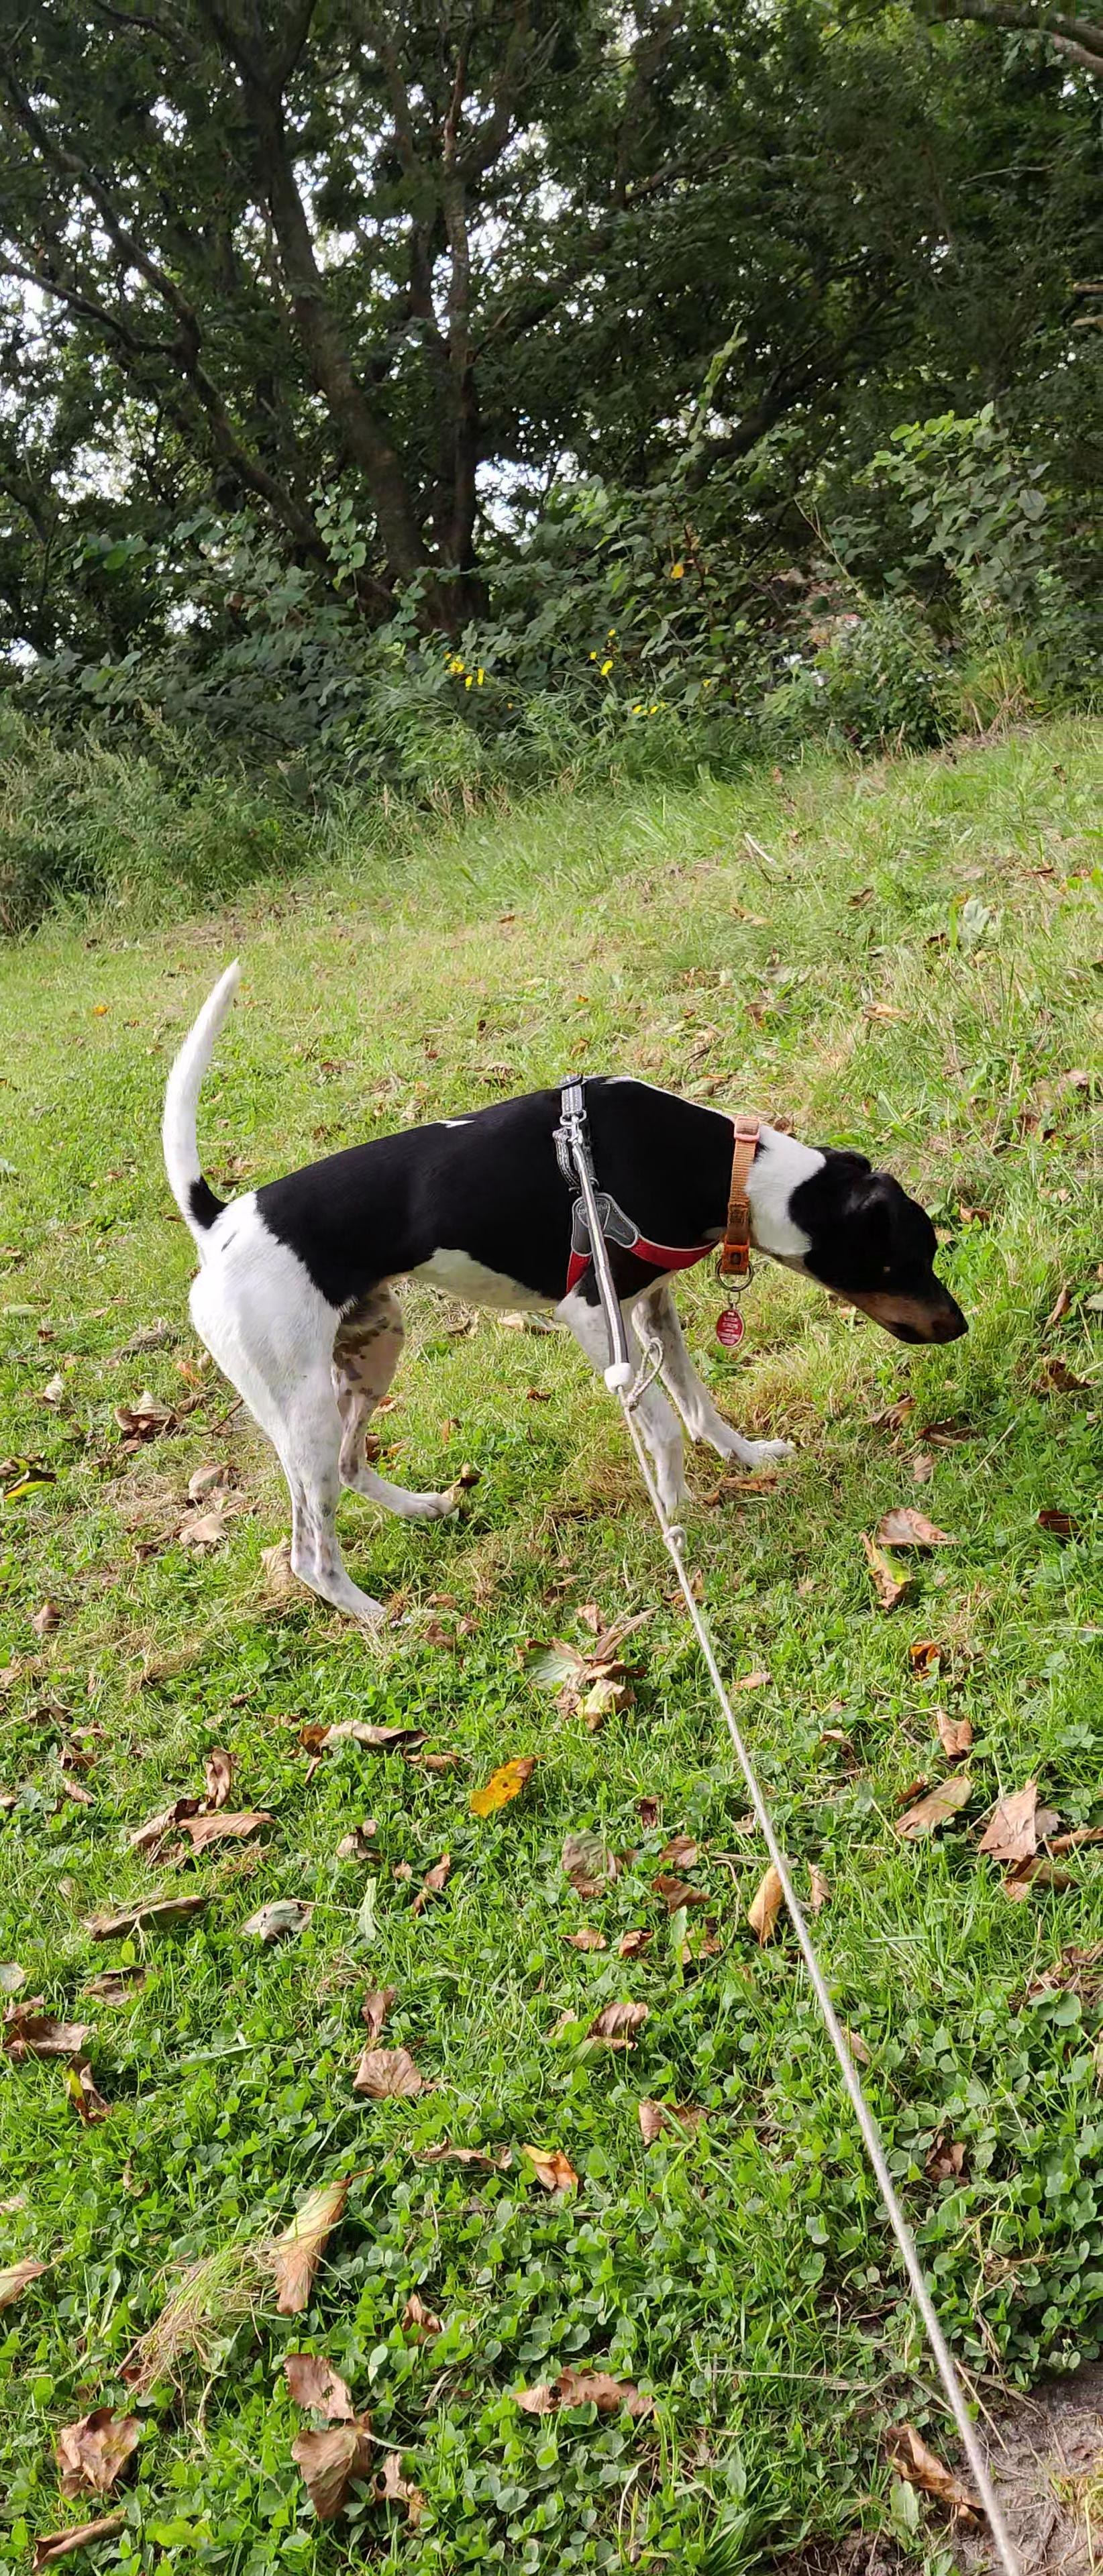Dog: (153, 950, 985, 1641)
